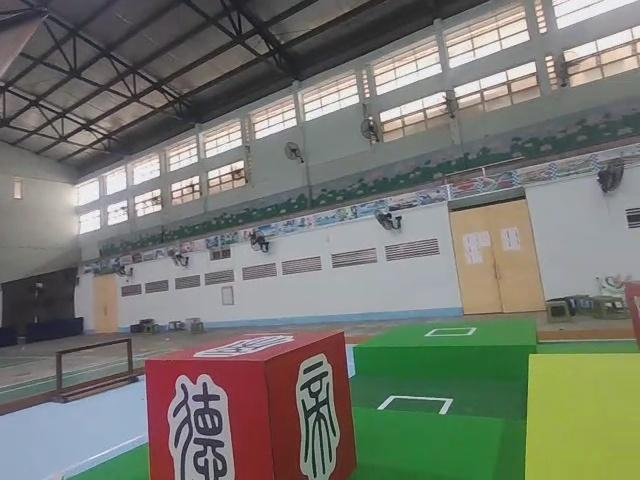R2 Fake: (142, 327, 359, 480)
